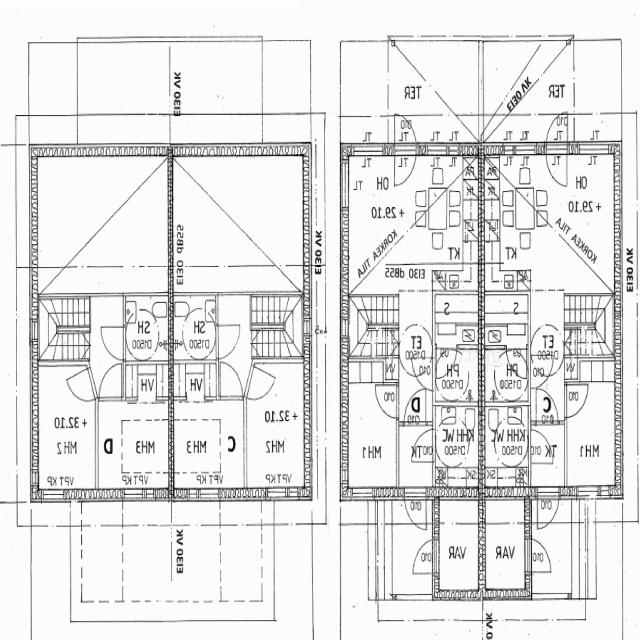door: (244, 365, 274, 408), (68, 366, 98, 408), (394, 108, 416, 155), (404, 488, 426, 534), (537, 488, 559, 534), (394, 142, 416, 188), (410, 540, 439, 574), (546, 110, 567, 156), (546, 142, 567, 187), (525, 539, 553, 572), (374, 384, 399, 419), (220, 362, 243, 400), (404, 388, 426, 426), (100, 362, 122, 400), (410, 357, 435, 390), (528, 354, 552, 388), (564, 384, 588, 418), (411, 429, 435, 462), (216, 326, 240, 358), (102, 327, 126, 359), (529, 430, 552, 463), (537, 388, 558, 424), (437, 345, 457, 379), (506, 345, 526, 379)
